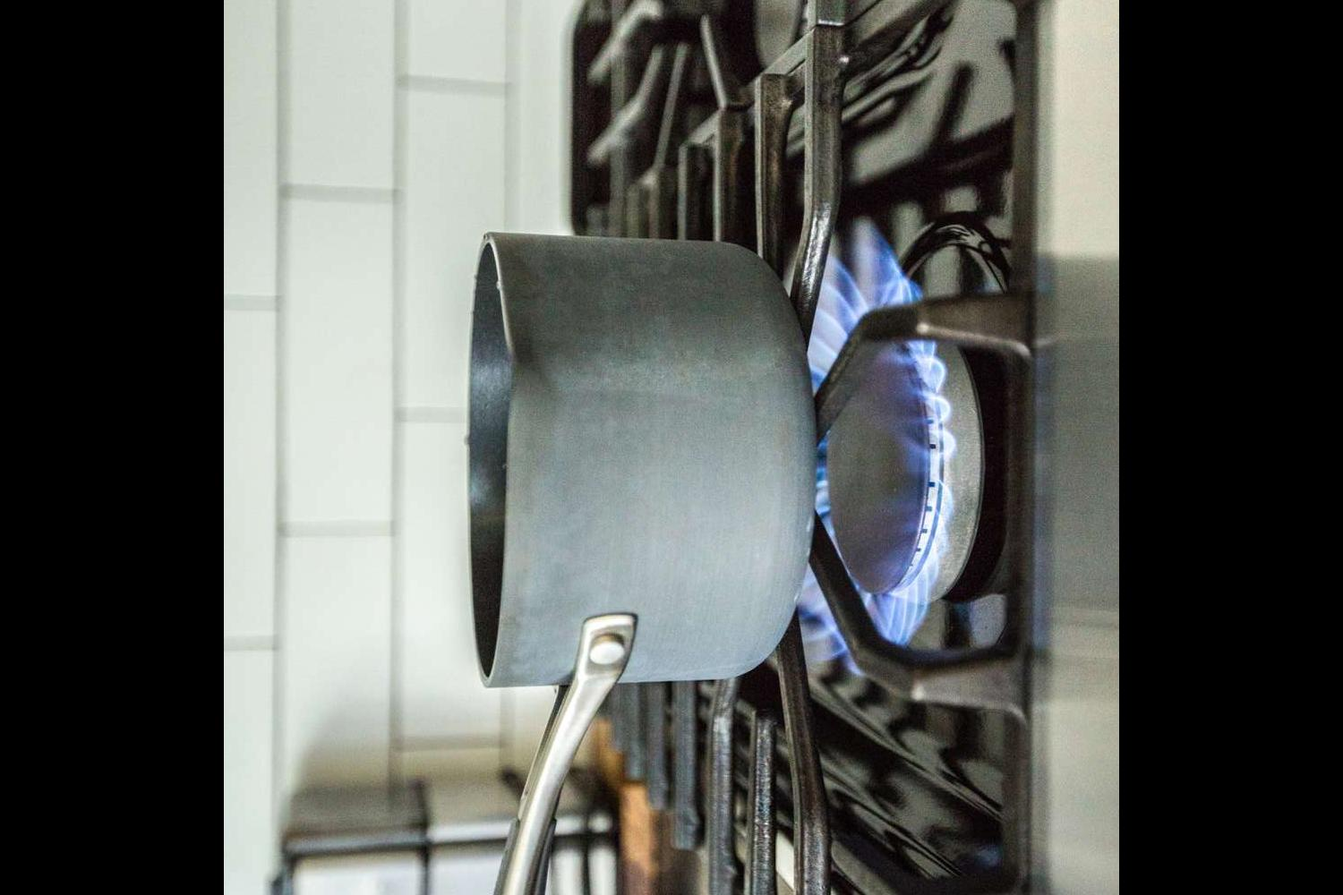controlled_fire: (717, 233, 1006, 724)
